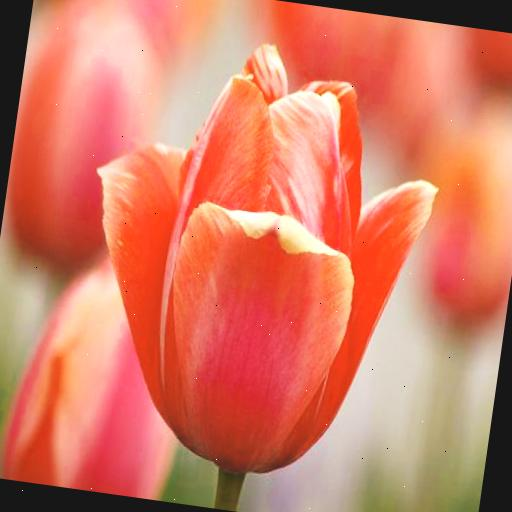tulip: (59, 28, 449, 488)
